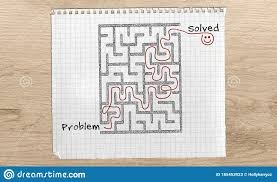maze: (99, 24, 182, 134)
